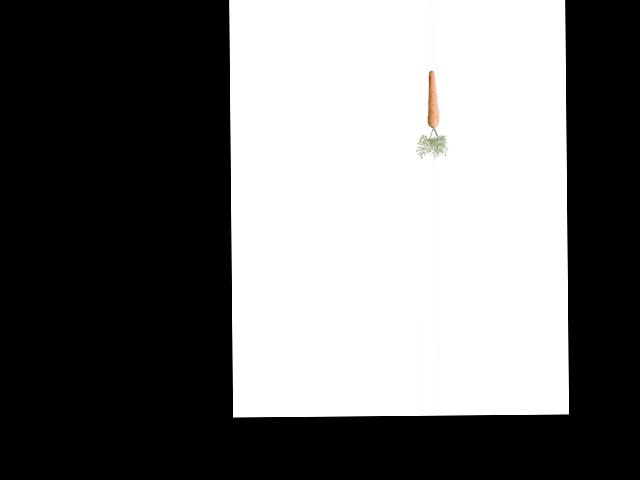carrot: (423, 68, 441, 132)
